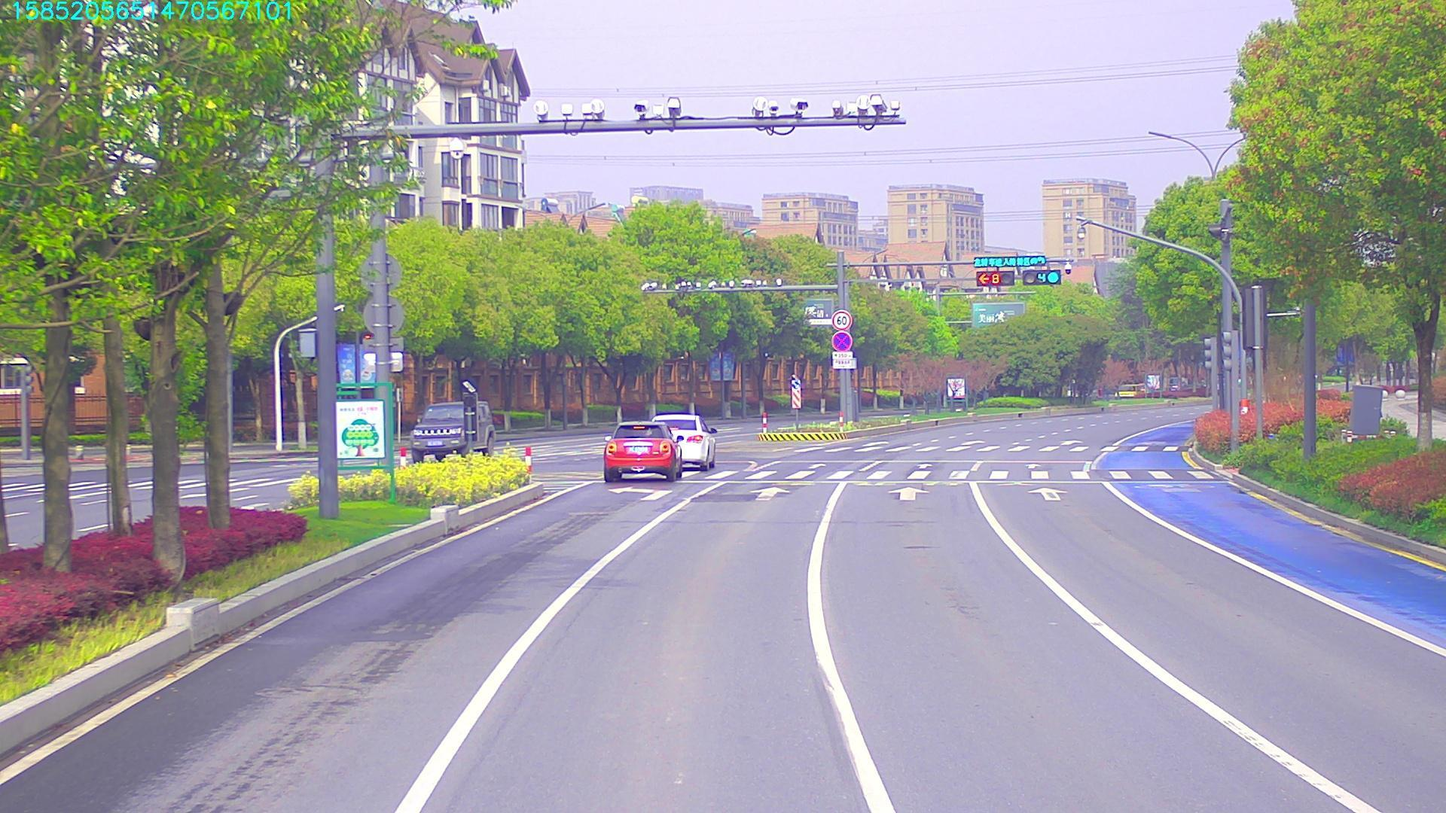green: (1027, 271, 1060, 286)
red: (979, 273, 1016, 288)
wait_on: (973, 251, 1051, 268)
